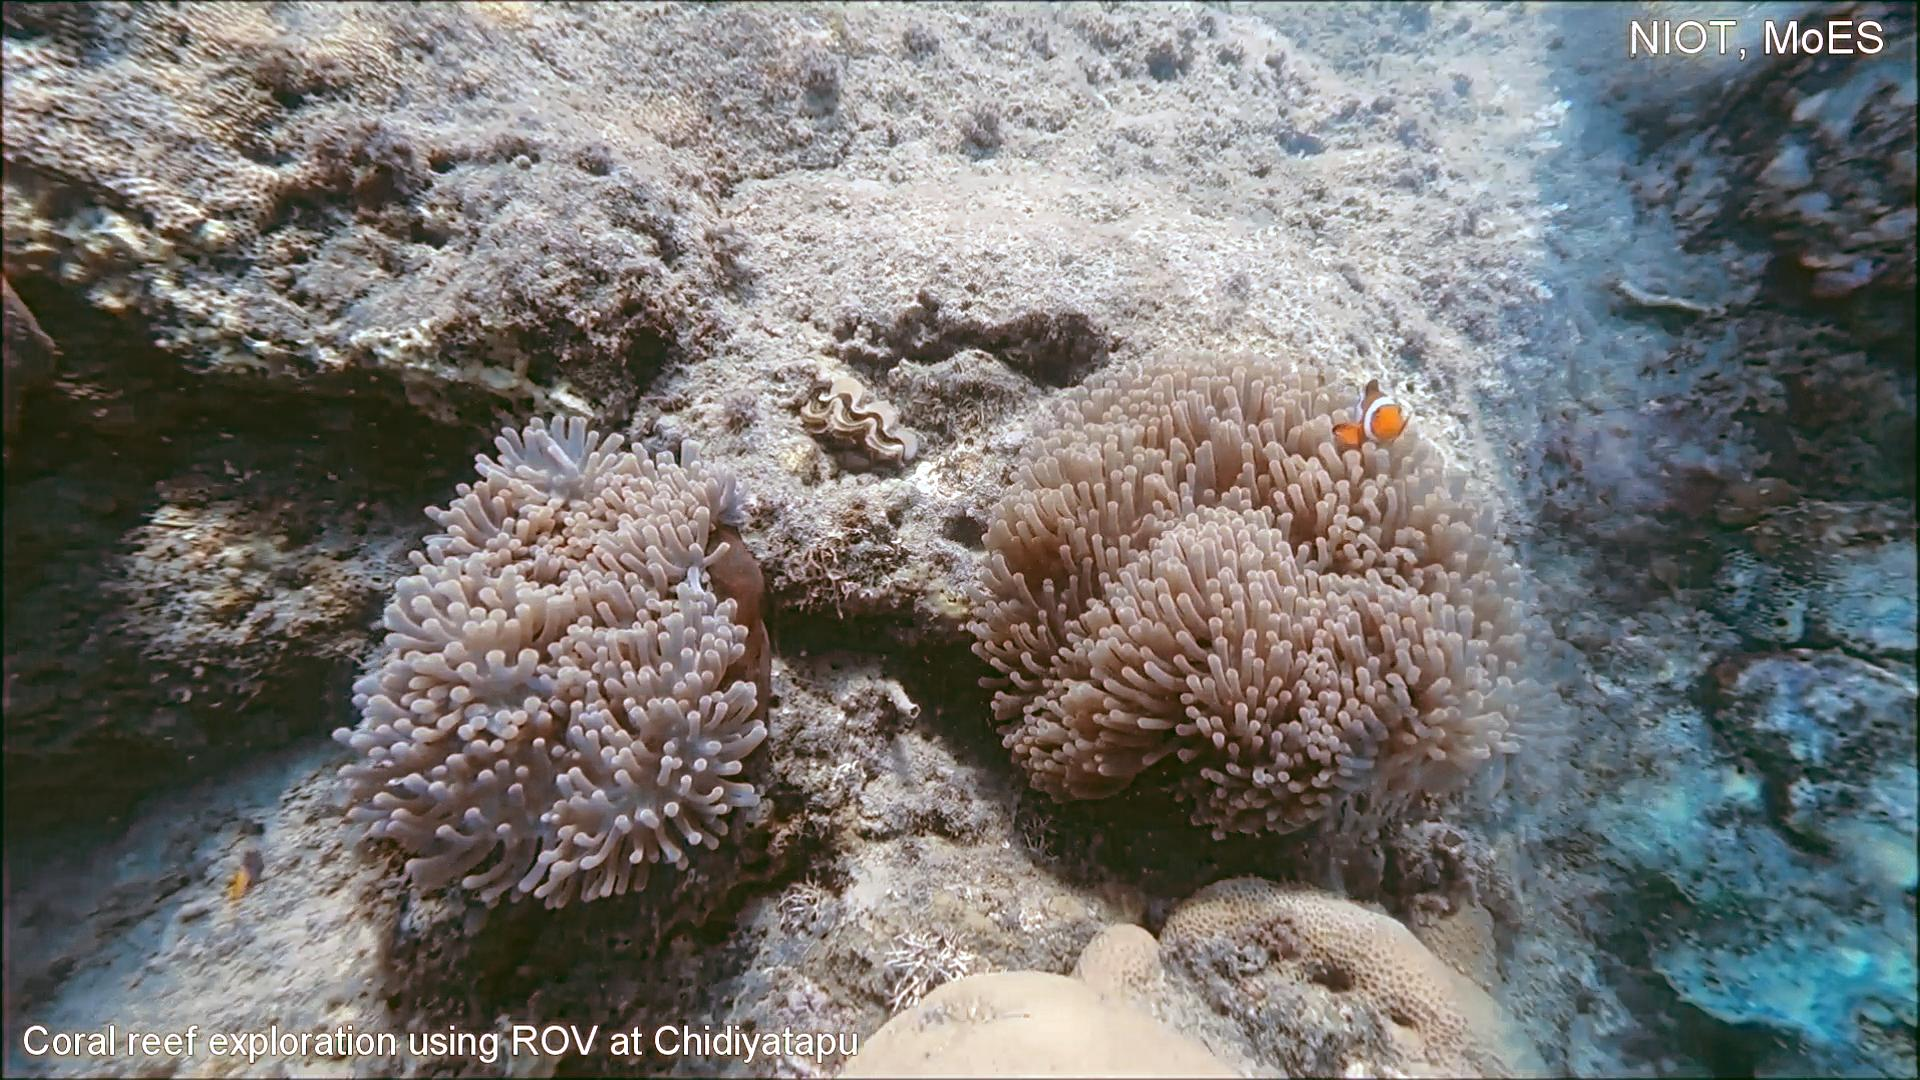Macrodactyla doreensis-Long tentacle Anemone: (960, 343, 1535, 845), (322, 401, 773, 918)
Tridacna Clam: (775, 356, 930, 485)
